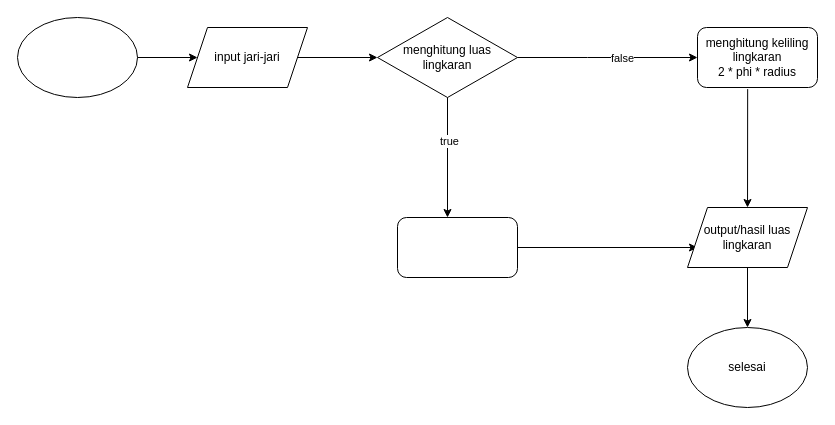
This 835x425 diagram has some shape labels left out. Each missing label, with the centre of its shape:
menghitung luas lingkarang phi * radius ^ 2.: the point at 457,247
start: the point at 77,57
